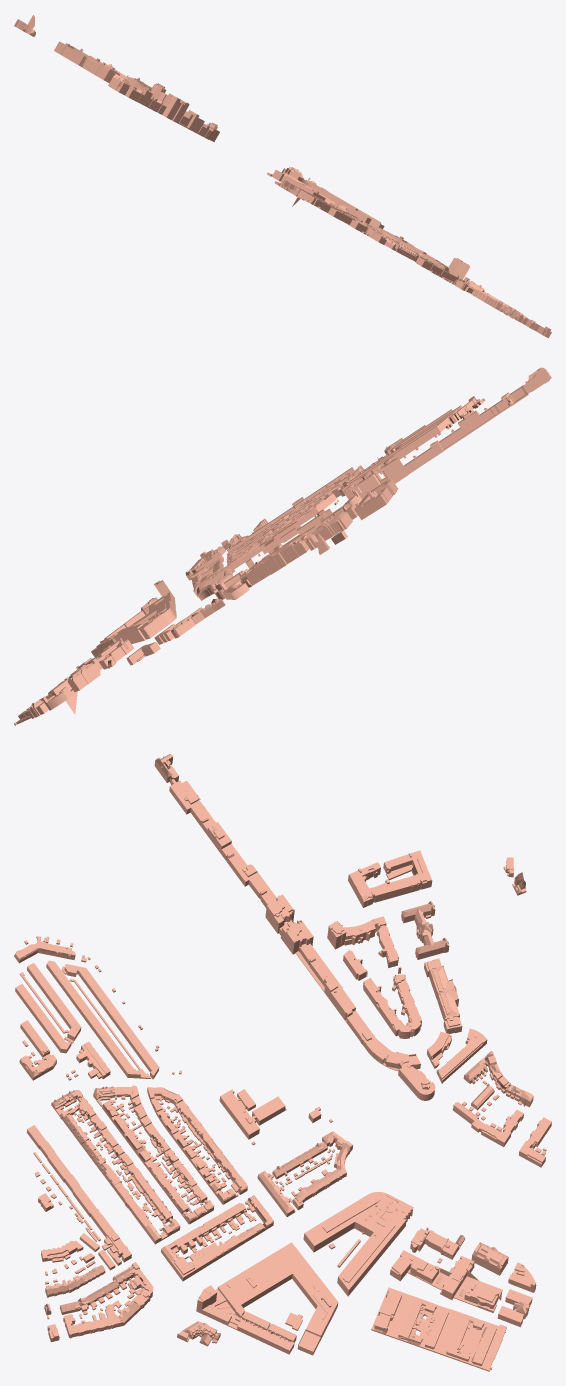
3 views of the same model, one above another, from view 1: azimuth 30°, elevation 25°; view 2: azimuth 150°, elevation 25°; view 3: azimuth 270°, elevation 25° (orthographic). The views are drawn at different scales.
Bounding box in the file's own units: 620 × 518 × 630.
